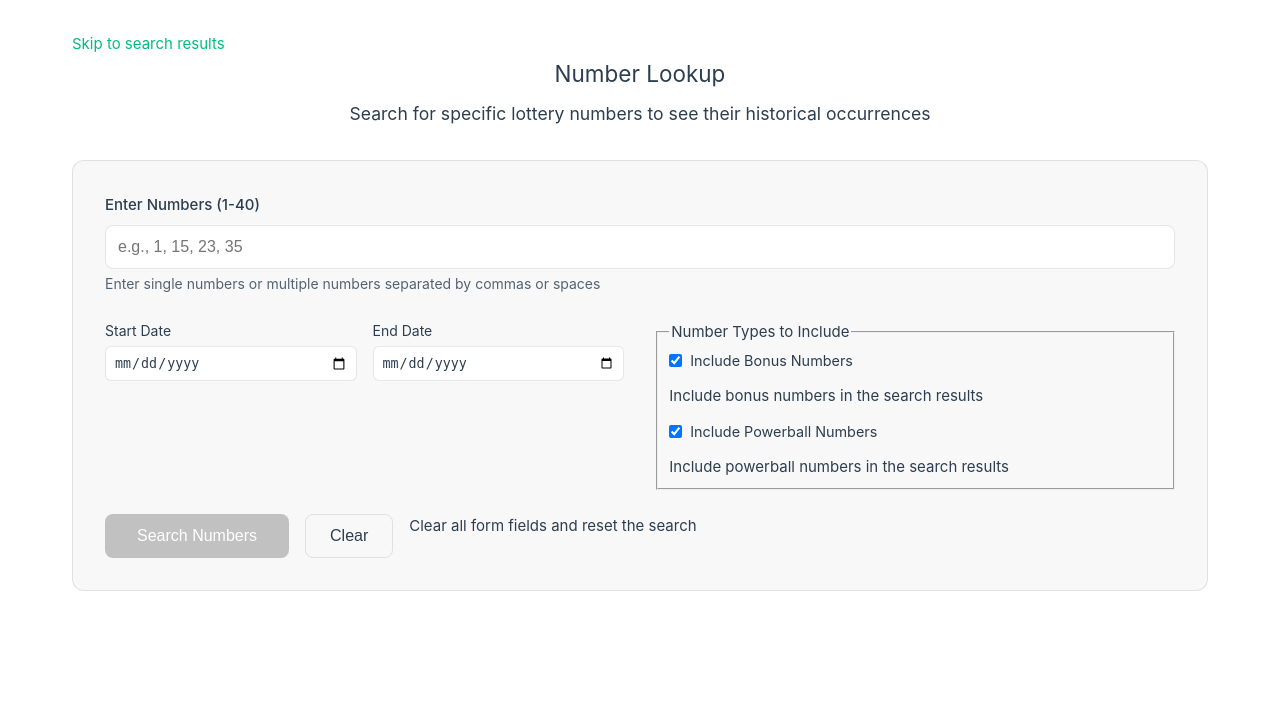
Test: NumberLookup › shows validation errors for invalid input
In the field with class "numbers-input": [640, 247] box [105, 225, 1175, 269], type "1, 50, 23"
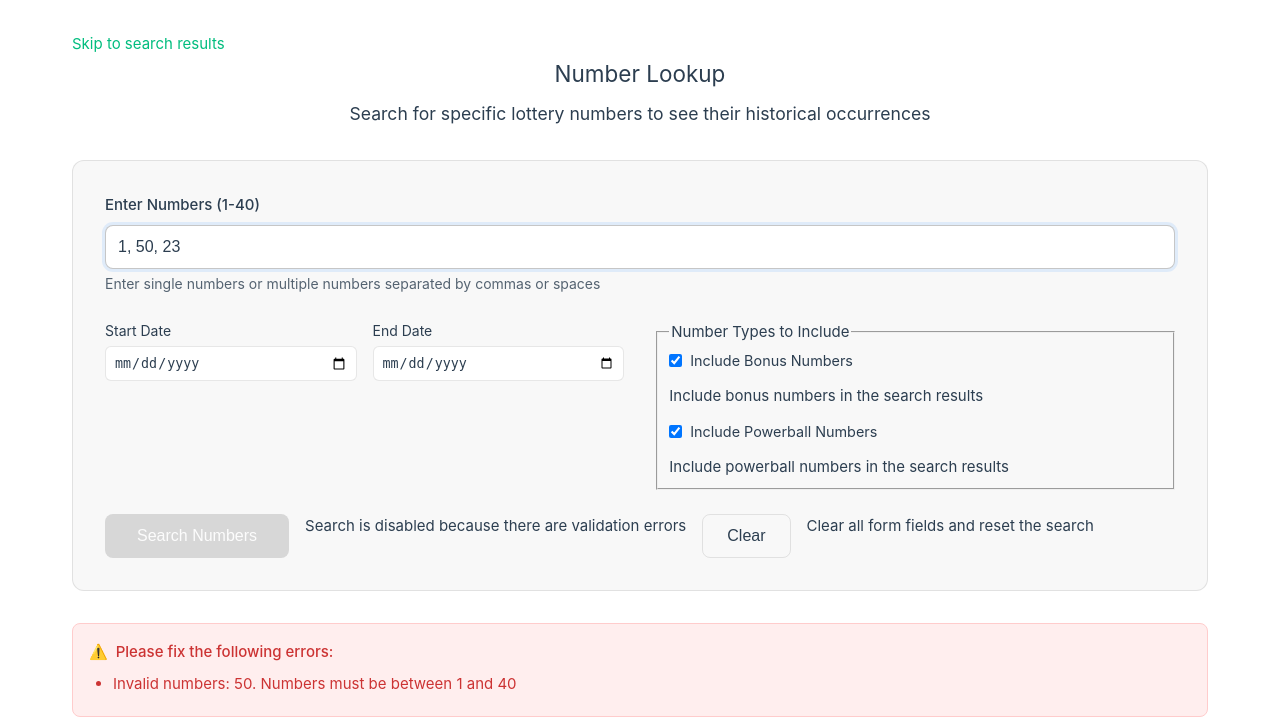
Check: the message with class "error-messages" is shown, box [72, 623, 1208, 717]
